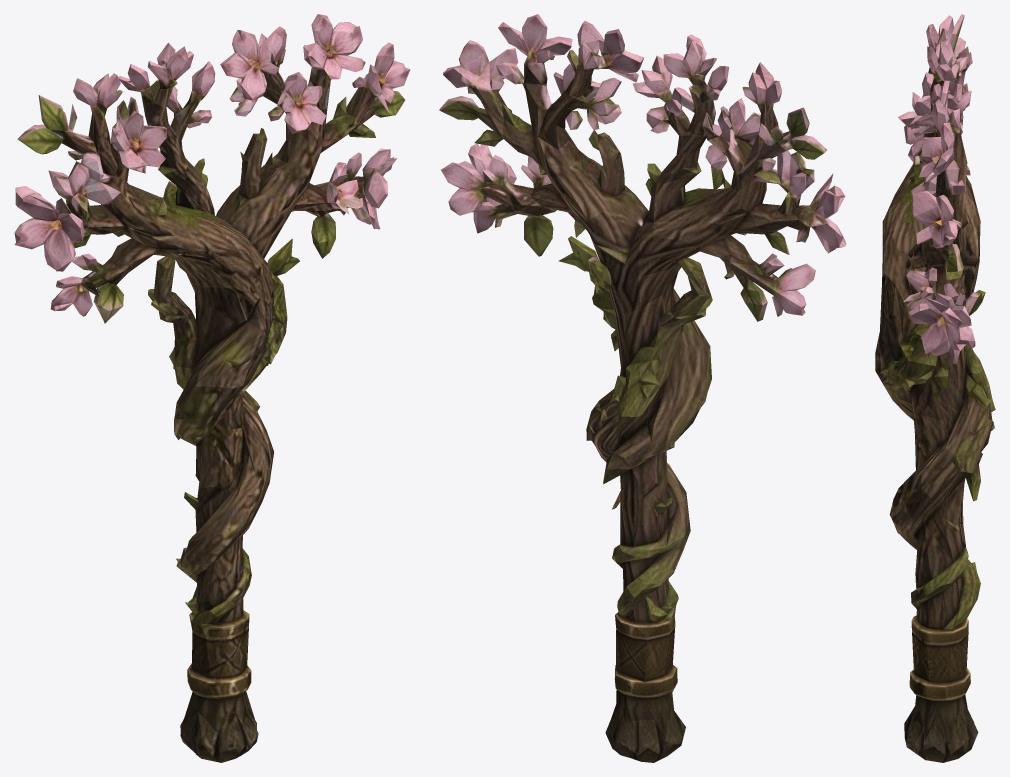
The model's file is blossom_staff.glb.
3 renders of one model, left to right at view 1: azimuth 30°, elevation 25°; view 2: azimuth 150°, elevation 25°; view 3: azimuth 270°, elevation 25°, orthographic. The views are drawn at different scales.
Size of the model in its own units: 1.23 by 2.15 by 0.3382.
Materials: 1 (1 with a texture image).
